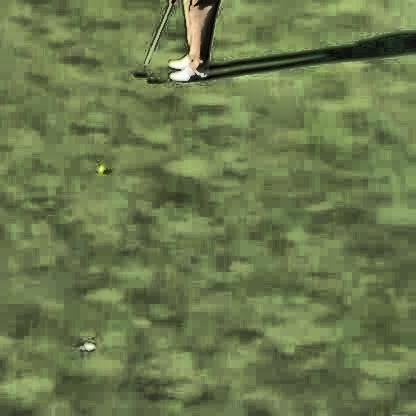golfball: (95, 160, 102, 170)
